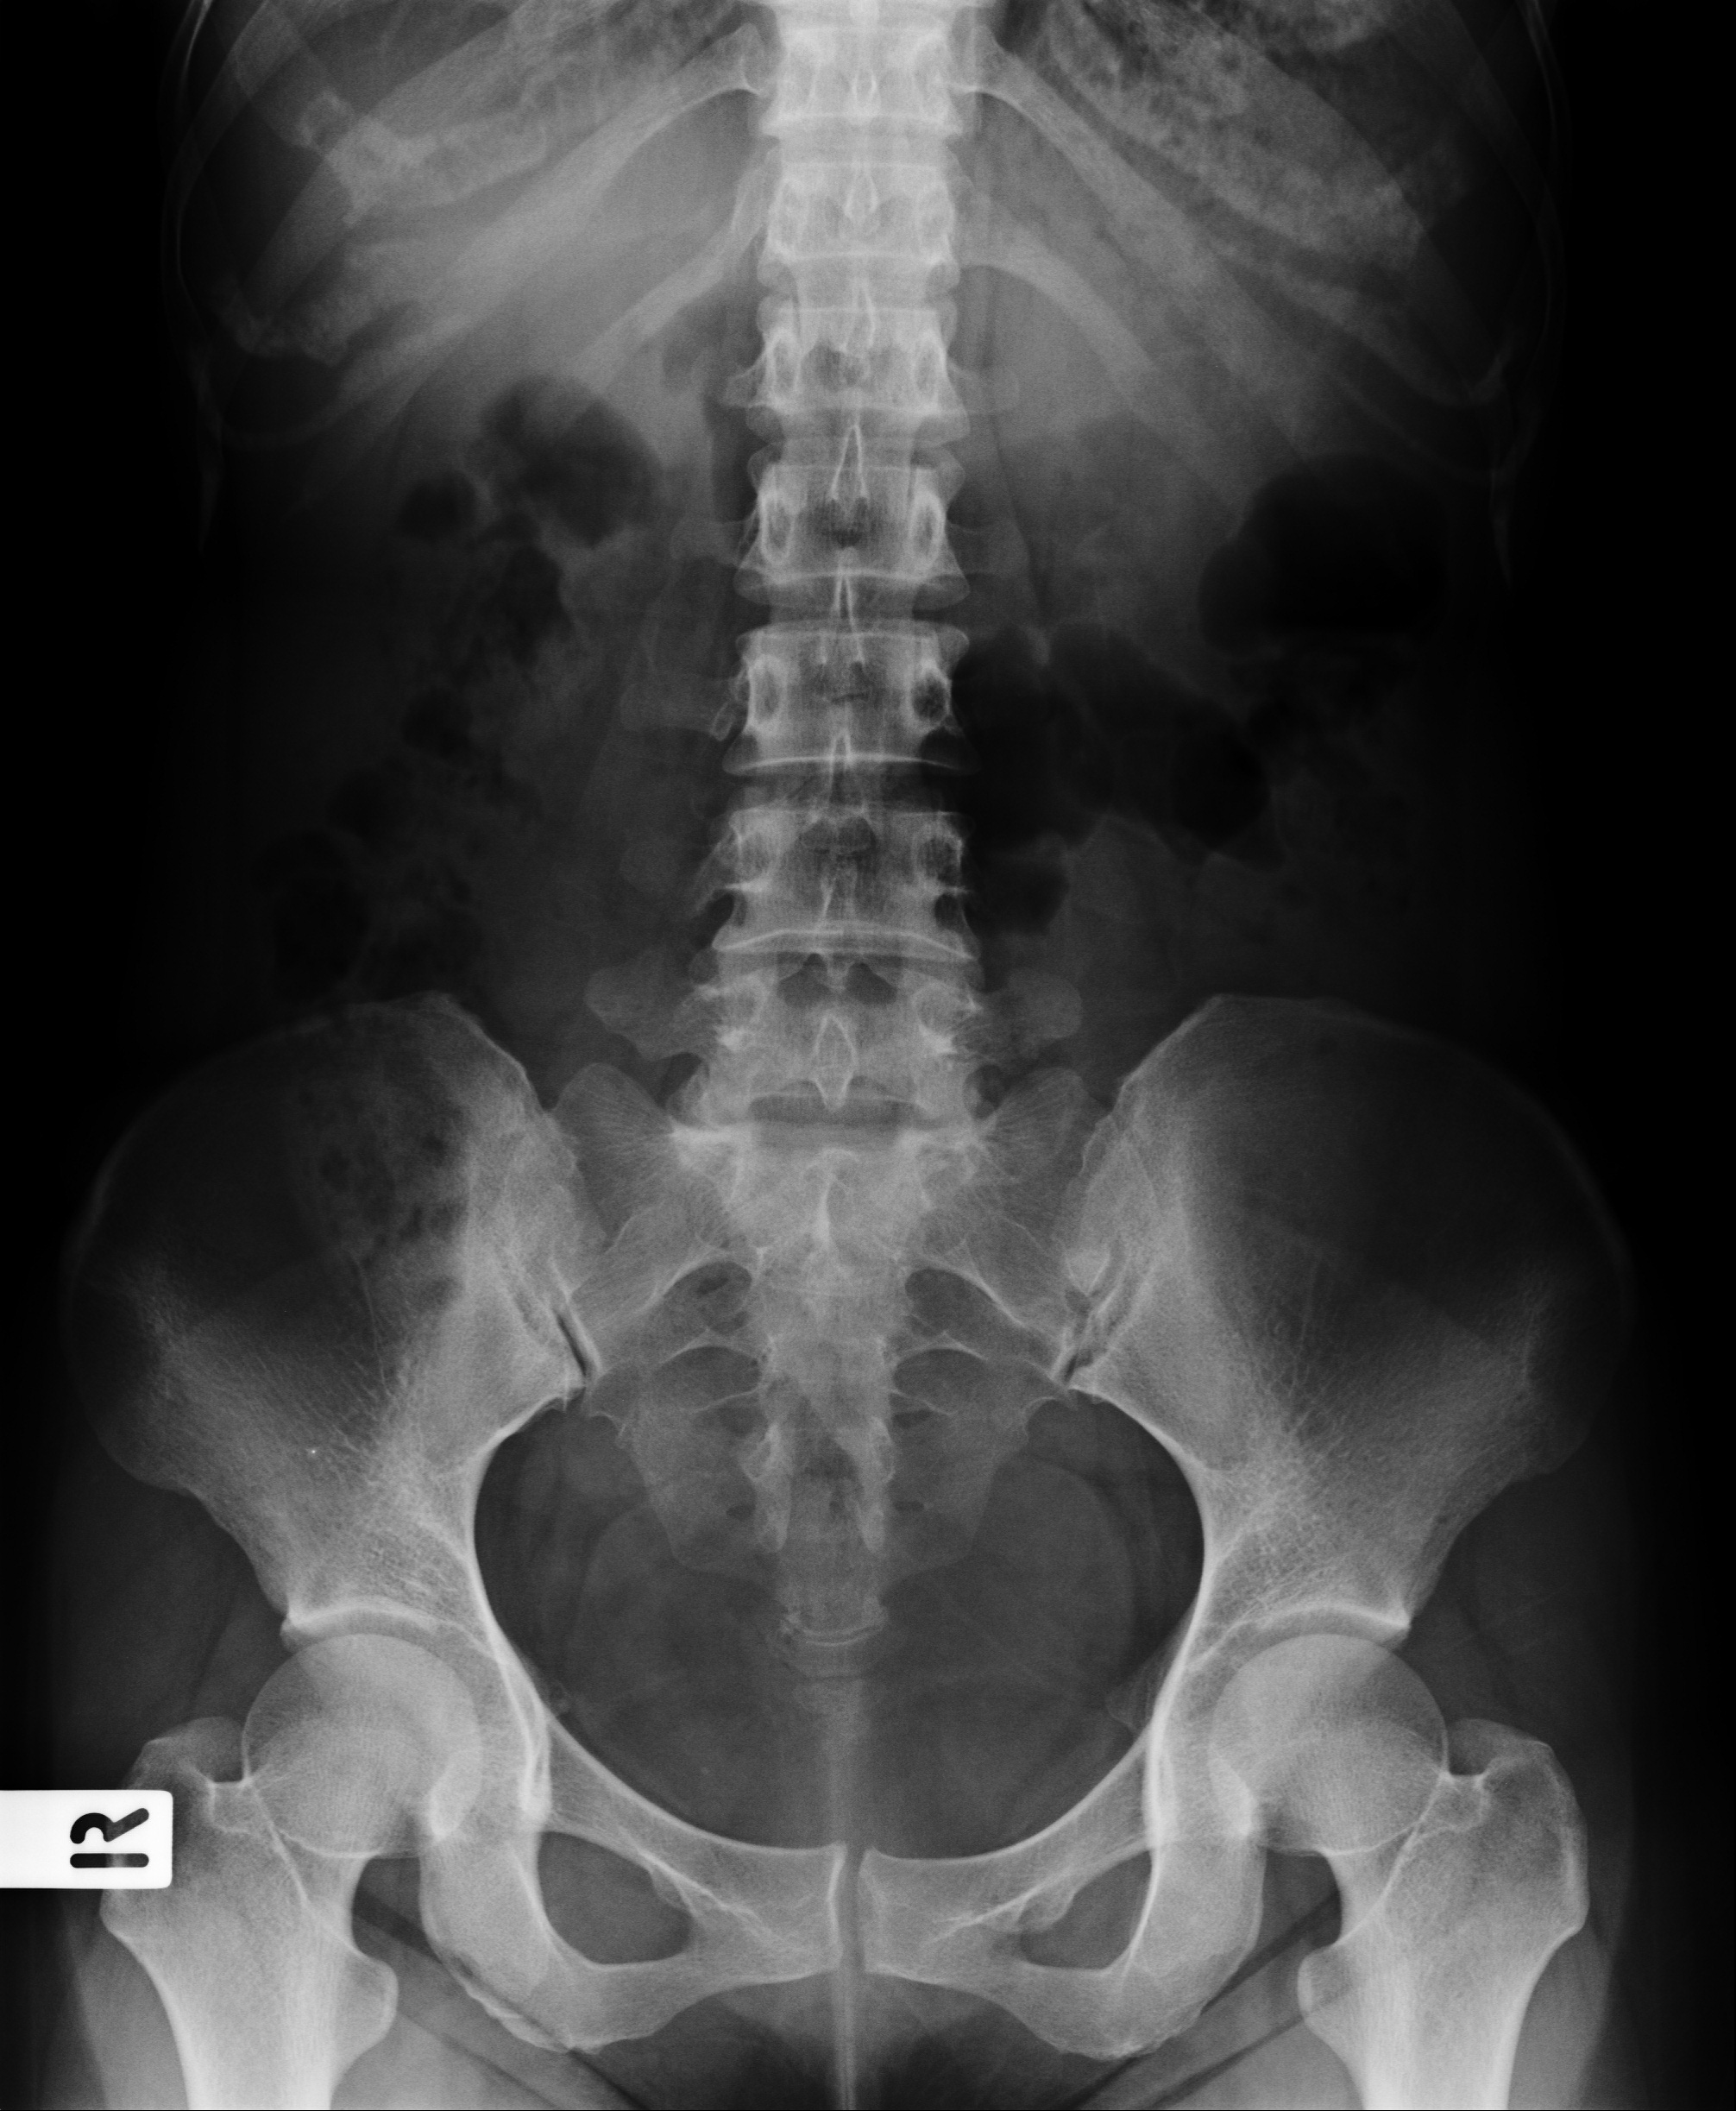lumbar scoliosis: (710, 14, 984, 1245)
